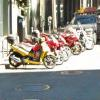Bicycle: (7, 37, 58, 74)
